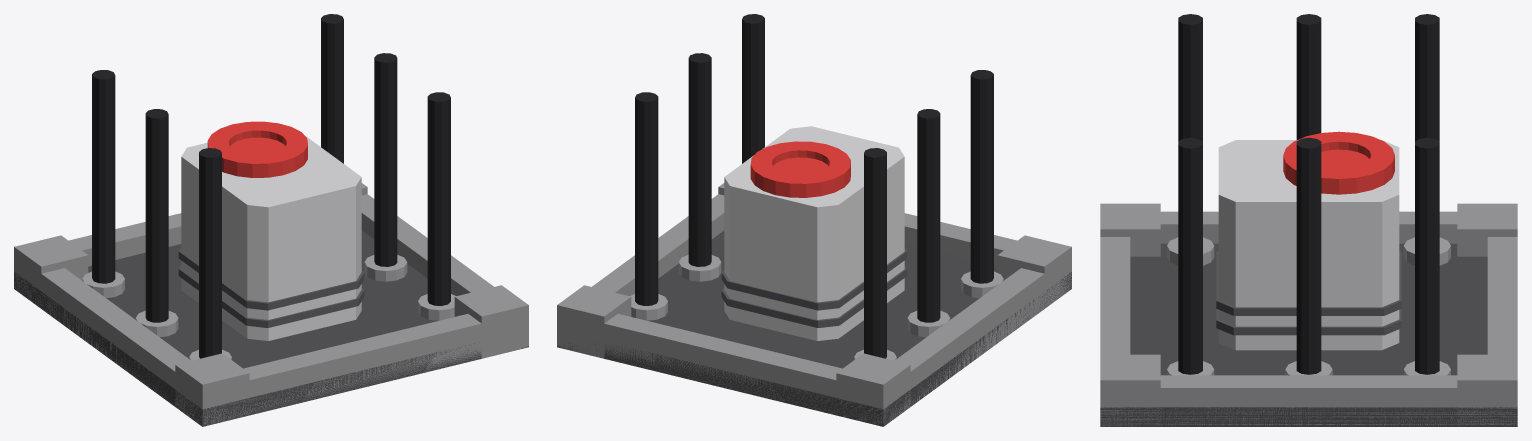
Rendered from vge_e_signal_jammer.obj.
3 views of the same model, side by side, from view 1: azimuth 30°, elevation 25°; view 2: azimuth 150°, elevation 25°; view 3: azimuth 270°, elevation 25° (orthographic). The views are drawn at different scales.
Visible parts, largest first — view 1: vge_signal_jammer_9, vge_signal_jammer_0, vge_signal_jammer_1, vge_signal_jammer_3, vge_signal_jammer_23, vge_signal_jammer_17, vge_signal_jammer_21, vge_signal_jammer_19, vge_signal_jammer_15, vge_signal_jammer_12, vge_signal_jammer_7, vge_signal_jammer_25 (+11 smaller); view 2: vge_signal_jammer_9, vge_signal_jammer_0, vge_signal_jammer_2, vge_signal_jammer_3, vge_signal_jammer_23, vge_signal_jammer_17, vge_signal_jammer_25, vge_signal_jammer_15, vge_signal_jammer_19, vge_signal_jammer_12, vge_signal_jammer_21, vge_signal_jammer_6 (+11 smaller); view 3: vge_signal_jammer_9, vge_signal_jammer_0, vge_signal_jammer_4, vge_signal_jammer_23, vge_signal_jammer_21, vge_signal_jammer_25, vge_signal_jammer_1, vge_signal_jammer_2, vge_signal_jammer_12, vge_signal_jammer_7, vge_signal_jammer_8, vge_signal_jammer_17 (+10 smaller).
Part boxes in pixels (x1,y1,x2,y2): vge_signal_jammer_9: (181,128,361,340); vge_signal_jammer_0: (14,230,528,426); vge_signal_jammer_1: (189,312,528,426); vge_signal_jammer_3: (27,264,191,416); vge_signal_jammer_23: (374,53,397,266); vge_signal_jammer_17: (145,109,168,322); vge_signal_jammer_21: (427,92,450,305); vge_signal_jammer_19: (92,70,115,283); vge_signal_jammer_15: (199,148,221,358); vge_signal_jammer_12: (207,121,307,177); vge_signal_jammer_7: (454,285,528,358); vge_signal_jammer_25: (321,14,343,163); vge_signal_jammer_9: (724,126,904,340); vge_signal_jammer_0: (557,230,1071,426); vge_signal_jammer_2: (557,312,896,426); vge_signal_jammer_3: (894,264,1058,415); vge_signal_jammer_23: (688,53,711,266); vge_signal_jammer_17: (917,109,940,322); vge_signal_jammer_25: (635,92,658,305); vge_signal_jammer_15: (970,70,993,283); vge_signal_jammer_19: (864,148,886,358); vge_signal_jammer_12: (750,141,850,197); vge_signal_jammer_21: (742,14,764,163); vge_signal_jammer_6: (836,353,910,426); vge_signal_jammer_9: (1218,140,1399,350); vge_signal_jammer_0: (1100,243,1517,426); vge_signal_jammer_4: (1130,375,1487,426); vge_signal_jammer_23: (1296,137,1321,374); vge_signal_jammer_21: (1178,137,1202,374); vge_signal_jammer_25: (1415,137,1439,374); vge_signal_jammer_1: (1100,237,1130,426); vge_signal_jammer_2: (1487,237,1517,426); vge_signal_jammer_12: (1283,131,1394,194); vge_signal_jammer_7: (1100,354,1160,425); vge_signal_jammer_8: (1457,354,1517,425); vge_signal_jammer_17: (1296,14,1321,139).
Size of the model in its own units: 1.94 by 1.32 by 1.94.
